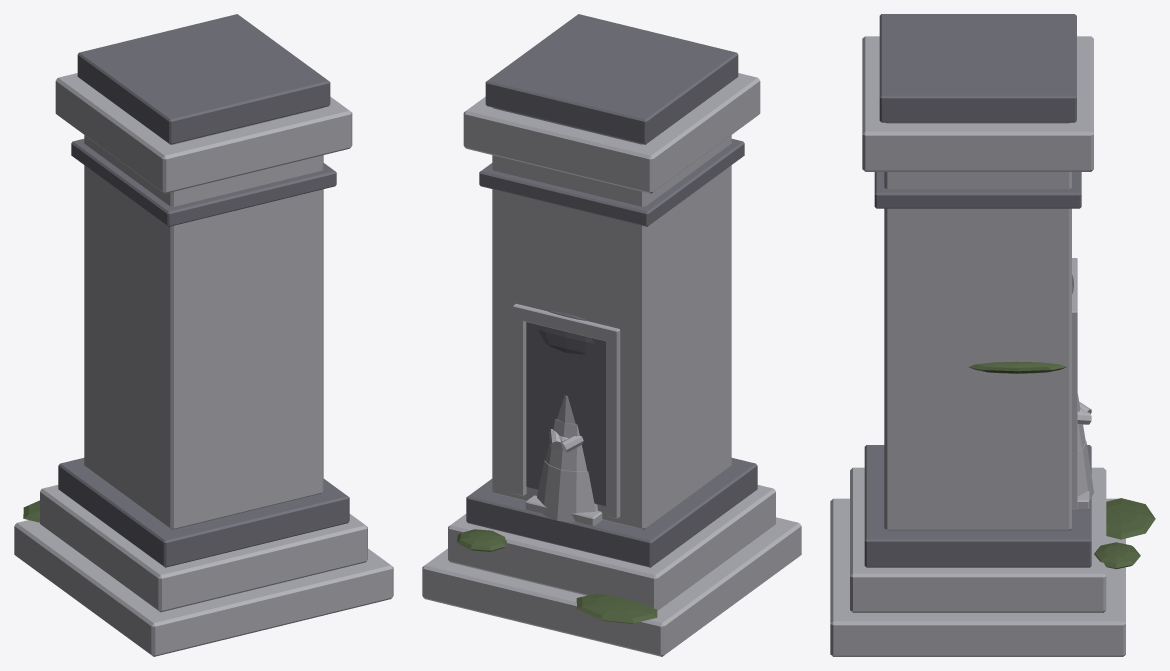
The model's file is SM_Cripta_Pilar.glb.
The picture shows the model from 3 angles, left to right: view 1: azimuth 30°, elevation 25°; view 2: azimuth 150°, elevation 25°; view 3: azimuth 270°, elevation 25°; orthographic projection. The views are drawn at different scales.
Visible parts, largest first — view 1: Cube; view 2: Cube; view 3: Cube.
Part boxes in pixels (left/top/right/bottom): Cube: left=14, top=14, right=393, bottom=656; Cube: left=422, top=14, right=801, bottom=656; Cube: left=830, top=14, right=1155, bottom=656.
Size of the model in its own units: 3 by 6.05 by 3.3.
